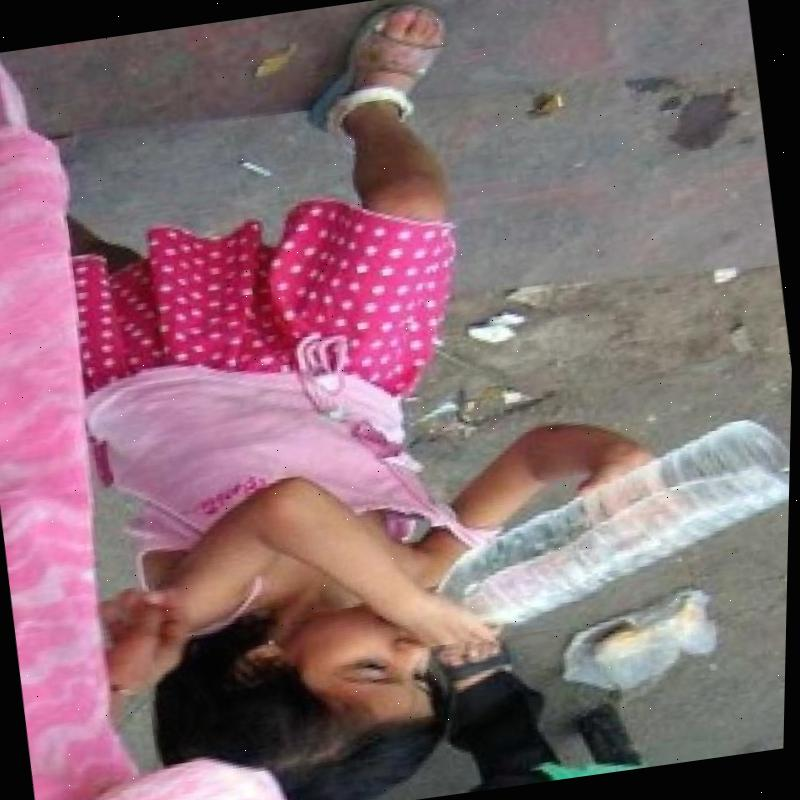botella: (409, 409, 793, 640)
